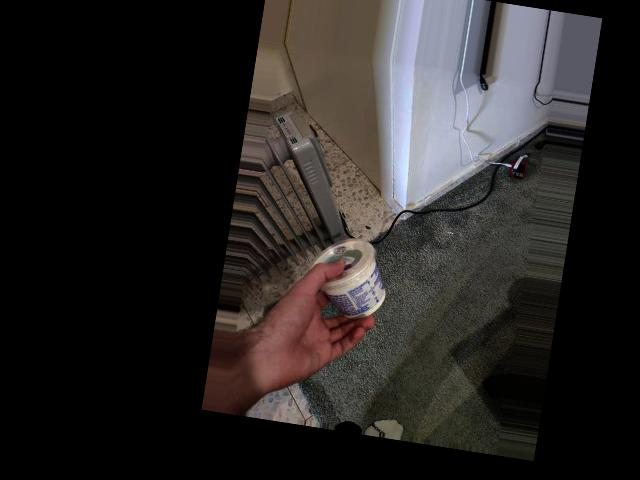cotage: (308, 235, 393, 328)
